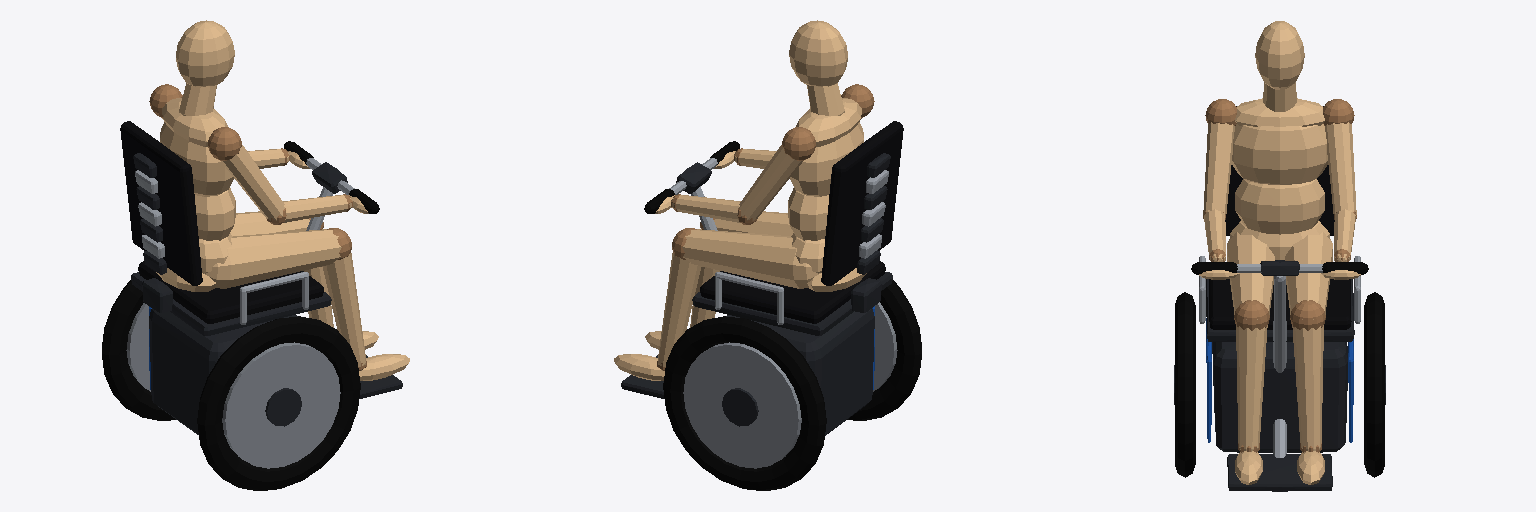
The robot description file, URDF, robot "balance_bot_rider":
<?xml version="1.0"?>
<!--
  Self-balancing chair shaped after the Genny Zero, with a seated mannequin (rider task).
  Generated by build_rider_model.py (low-poly meshes in meshes/).
  Frame convention: +x forward, +y left, +z up. base_link origin 0.305 m above the wheel axle (as in tw_balance.urdf).

  Physics of base_link and the wheels is IDENTICAL to tw_balance.urdf (55 kg, 2 x 5 kg wheels, r = 0.3 m, track 0.61 m);
  only the base_link collision box changed shape (it never touches flat ground before the tilt termination).
  Rider (1.75 m mannequin, mass fractions after Dempster / Winter 2009):
    rider_legs : pelvis + legs, 46.4 % of the rider mass, fixed to the chair (fixed joint, keep merge_fixed_joints=False)
    rider      : head + trunk + arms, 53.6 % of the rider mass, on the hip joint rider_joint (axis y, + = lean forward)
  Both rider links weigh 1 kg here; the rider_mass event adds the fraction of the rider mass and scales the inertia.
  Seat top 0.64 m above the floor, hip joints 0.09 m above the seat and 0.10 m behind the axle.
-->
<robot name="balance_bot_rider">

  <material name="chassis"><color rgba="0.170 0.180 0.200 1.000"/></material>
  <material name="accent"><color rgba="0.130 0.360 0.690 1.000"/></material>
  <material name="cushion"><color rgba="0.080 0.080 0.090 1.000"/></material>
  <material name="metal"><color rgba="0.620 0.640 0.670 1.000"/></material>
  <material name="rubber"><color rgba="0.060 0.060 0.060 1.000"/></material>
  <material name="tyre"><color rgba="0.070 0.070 0.070 1.000"/></material>
  <material name="hub"><color rgba="0.550 0.570 0.600 1.000"/></material>
  <material name="mannequin"><color rgba="0.870 0.730 0.560 1.000"/></material>
  <material name="joint"><color rgba="0.660 0.500 0.360 1.000"/></material>

  <link name="base_link">
    <visual><geometry><mesh filename="meshes/chair_chassis.obj"/></geometry><material name="chassis"/></visual>
    <visual><geometry><mesh filename="meshes/chair_accent.obj"/></geometry><material name="accent"/></visual>
    <visual><geometry><mesh filename="meshes/chair_cushion.obj"/></geometry><material name="cushion"/></visual>
    <visual><geometry><mesh filename="meshes/chair_metal.obj"/></geometry><material name="metal"/></visual>
    <visual><geometry><mesh filename="meshes/chair_rubber.obj"/></geometry><material name="rubber"/></visual>
    <collision>
      <origin xyz="0.000 0 -0.220" rpy="0 0 0"/>
      <geometry><box size="0.46 0.44 0.51"/></geometry>
    </collision>
    <inertial>
      <origin xyz="0 0 0" rpy="0 0 0"/>
      <mass value="55.0"/>
      <inertia ixx="3.506" iyy="3.506" izz="1.856" ixy="0" ixz="0" iyz="0"/>
    </inertial>
  </link>

  <link name="left_wheel">
    <visual><geometry><mesh filename="meshes/wheel_tyre.obj"/></geometry><material name="tyre"/></visual>
    <visual><geometry><mesh filename="meshes/wheel_hub.obj"/></geometry><material name="hub"/></visual>
    <visual><geometry><mesh filename="meshes/wheel_chassis.obj"/></geometry><material name="chassis"/></visual>
    <collision>
      <origin xyz="0 0 0" rpy="1.5708 0 0"/>
      <geometry><cylinder radius="0.3" length="0.04"/></geometry>
    </collision>
    <inertial>
      <origin xyz="0 0 0" rpy="0 0 0"/>
      <mass value="5.0"/>
      <inertia ixx="0.113" iyy="0.225" izz="0.113" ixy="0" ixz="0" iyz="0"/>
    </inertial>
  </link>

  <joint name="left_wheel_joint" type="continuous">
    <parent link="base_link"/>
    <child link="left_wheel"/>
    <origin xyz="0 0.305 -0.305" rpy="0 0 0"/>
    <axis xyz="0 1 0"/>
    <dynamics damping="0.0" friction="0.0"/>
    <limit effort="1.0" velocity="50.0"/>
  </joint>

  <link name="right_wheel">
    <visual><geometry><mesh filename="meshes/wheel_tyre.obj"/></geometry><material name="tyre"/></visual>
    <visual><geometry><mesh filename="meshes/wheel_hub.obj"/></geometry><material name="hub"/></visual>
    <visual><geometry><mesh filename="meshes/wheel_chassis.obj"/></geometry><material name="chassis"/></visual>
    <collision>
      <origin xyz="0 0 0" rpy="1.5708 0 0"/>
      <geometry><cylinder radius="0.3" length="0.04"/></geometry>
    </collision>
    <inertial>
      <origin xyz="0 0 0" rpy="0 0 0"/>
      <mass value="5.0"/>
      <inertia ixx="0.113" iyy="0.225" izz="0.113" ixy="0" ixz="0" iyz="0"/>
    </inertial>
  </link>

  <joint name="right_wheel_joint" type="continuous">
    <parent link="base_link"/>
    <child link="right_wheel"/>
    <origin xyz="0 -0.305 -0.305" rpy="0 0 0"/>
    <axis xyz="0 1 0"/>
    <dynamics damping="0.0" friction="0.0"/>
    <limit effort="1.0" velocity="50.0"/>
  </joint>

  <!-- pelvis and legs: fixed to the chair. Link frame = hip joint centre. -->
  <link name="rider_legs">
    <visual><geometry><mesh filename="meshes/rider_legs_mannequin.obj"/></geometry><material name="mannequin"/></visual>
    <visual><geometry><mesh filename="meshes/rider_legs_joint.obj"/></geometry><material name="joint"/></visual>
    <inertial>
      <origin xyz="0.1987 0.0000 -0.0823" rpy="0 0 0"/>
      <mass value="1.0"/>
      <inertia ixx="0.03095" iyy="0.06907" izz="0.05457" ixy="-0.00000" ixz="0.02422" iyz="0.00000"/>
    </inertial>
  </link>

  <joint name="rider_legs_joint" type="fixed">
    <parent link="base_link"/>
    <child link="rider_legs"/>
    <origin xyz="-0.100 0 0.125" rpy="0 0 0"/>
  </joint>

  <!-- head, trunk and arms: lean about the hip joint. Link frame = hip joint centre. -->
  <link name="rider">
    <visual><geometry><mesh filename="meshes/rider_upper_mannequin.obj"/></geometry><material name="mannequin"/></visual>
    <visual><geometry><mesh filename="meshes/rider_upper_joint.obj"/></geometry><material name="joint"/></visual>
    <inertial>
      <origin xyz="0.0208 -0.0000 0.3445" rpy="0 0 0"/>
      <mass value="1.0"/>
      <inertia ixx="0.04407" iyy="0.04402" izz="0.02256" ixy="0.00000" ixz="0.00435" iyz="0.00000"/>
    </inertial>
  </link>

  <joint name="rider_joint" type="revolute">
    <parent link="base_link"/>
    <child link="rider"/>
    <origin xyz="-0.100 0 0.125" rpy="0 0 0"/>
    <axis xyz="0 1 0"/>
    <dynamics damping="0.0" friction="0.0"/>
    <limit lower="-0.40" upper="0.40" effort="1000.0" velocity="10.0"/>
  </joint>

</robot>

--- Render facts (derived) ---
The picture shows the robot from 3 angles, left to right: view 1: azimuth 30°, elevation 25°; view 2: azimuth 150°, elevation 25°; view 3: azimuth 270°, elevation 25°; orthographic projection.
Model balance_bot_rider with 5 links and 4 joints (1 revolute, 2 continuous, 1 fixed), rooted at base_link, posed all joints at 0.
Links seen in each view (by area): view 1: base_link, right_wheel, rider, rider_legs, left_wheel; view 2: base_link, left_wheel, rider, rider_legs, right_wheel; view 3: rider, base_link, rider_legs, left_wheel, right_wheel.
Boxes of the visible links, <box> form: base_link: <box>120,121,402,434</box>; right_wheel: <box>197,316,360,490</box>; rider: <box>149,20,368,240</box>; rider_legs: <box>156,211,409,380</box>; left_wheel: <box>102,280,175,420</box>; base_link: <box>621,121,903,435</box>; left_wheel: <box>663,316,826,490</box>; rider: <box>655,20,874,240</box>; rider_legs: <box>614,211,866,380</box>; right_wheel: <box>847,280,921,420</box>; rider: <box>1199,21,1360,279</box>; base_link: <box>1191,106,1368,491</box>; rider_legs: <box>1227,221,1332,484</box>; left_wheel: <box>1364,292,1385,477</box>; right_wheel: <box>1174,292,1195,477</box>.
Bounding box of the posed robot: 0.9362 × 0.682 × 1.54 m (x, y, z).
Meshes: 12 distinct files referenced, 15 mesh visuals loaded (12 OBJ).
